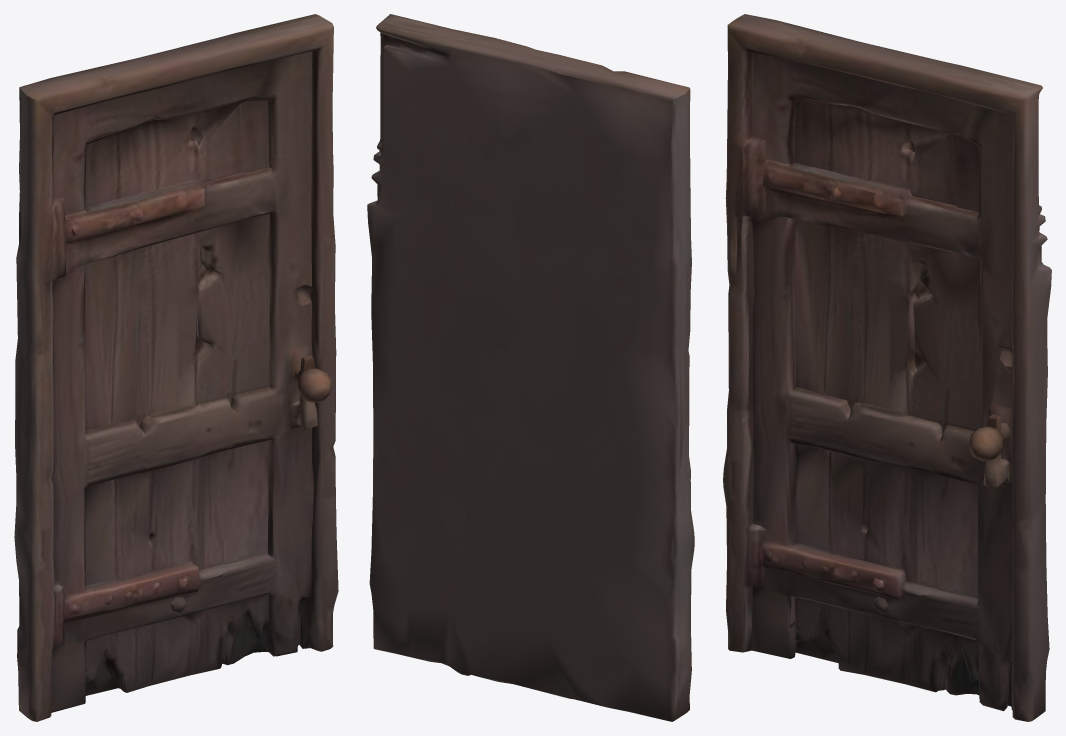
File: door_7.glb
The picture shows the model from 3 angles, left to right: view 1: azimuth 30°, elevation 25°; view 2: azimuth 150°, elevation 25°; view 3: azimuth 330°, elevation 25°; orthographic projection.
Visible parts, largest first — view 1: door; view 2: door; view 3: door.
Part boxes in pixels (left/top/right/bottom): door: left=14, top=14, right=338, bottom=721; door: left=367, top=14, right=694, bottom=721; door: left=723, top=14, right=1051, bottom=721.
Size of the model in its own units: 1.09 by 2.1 by 0.2269.
Materials: 1 (1 with a texture image).
